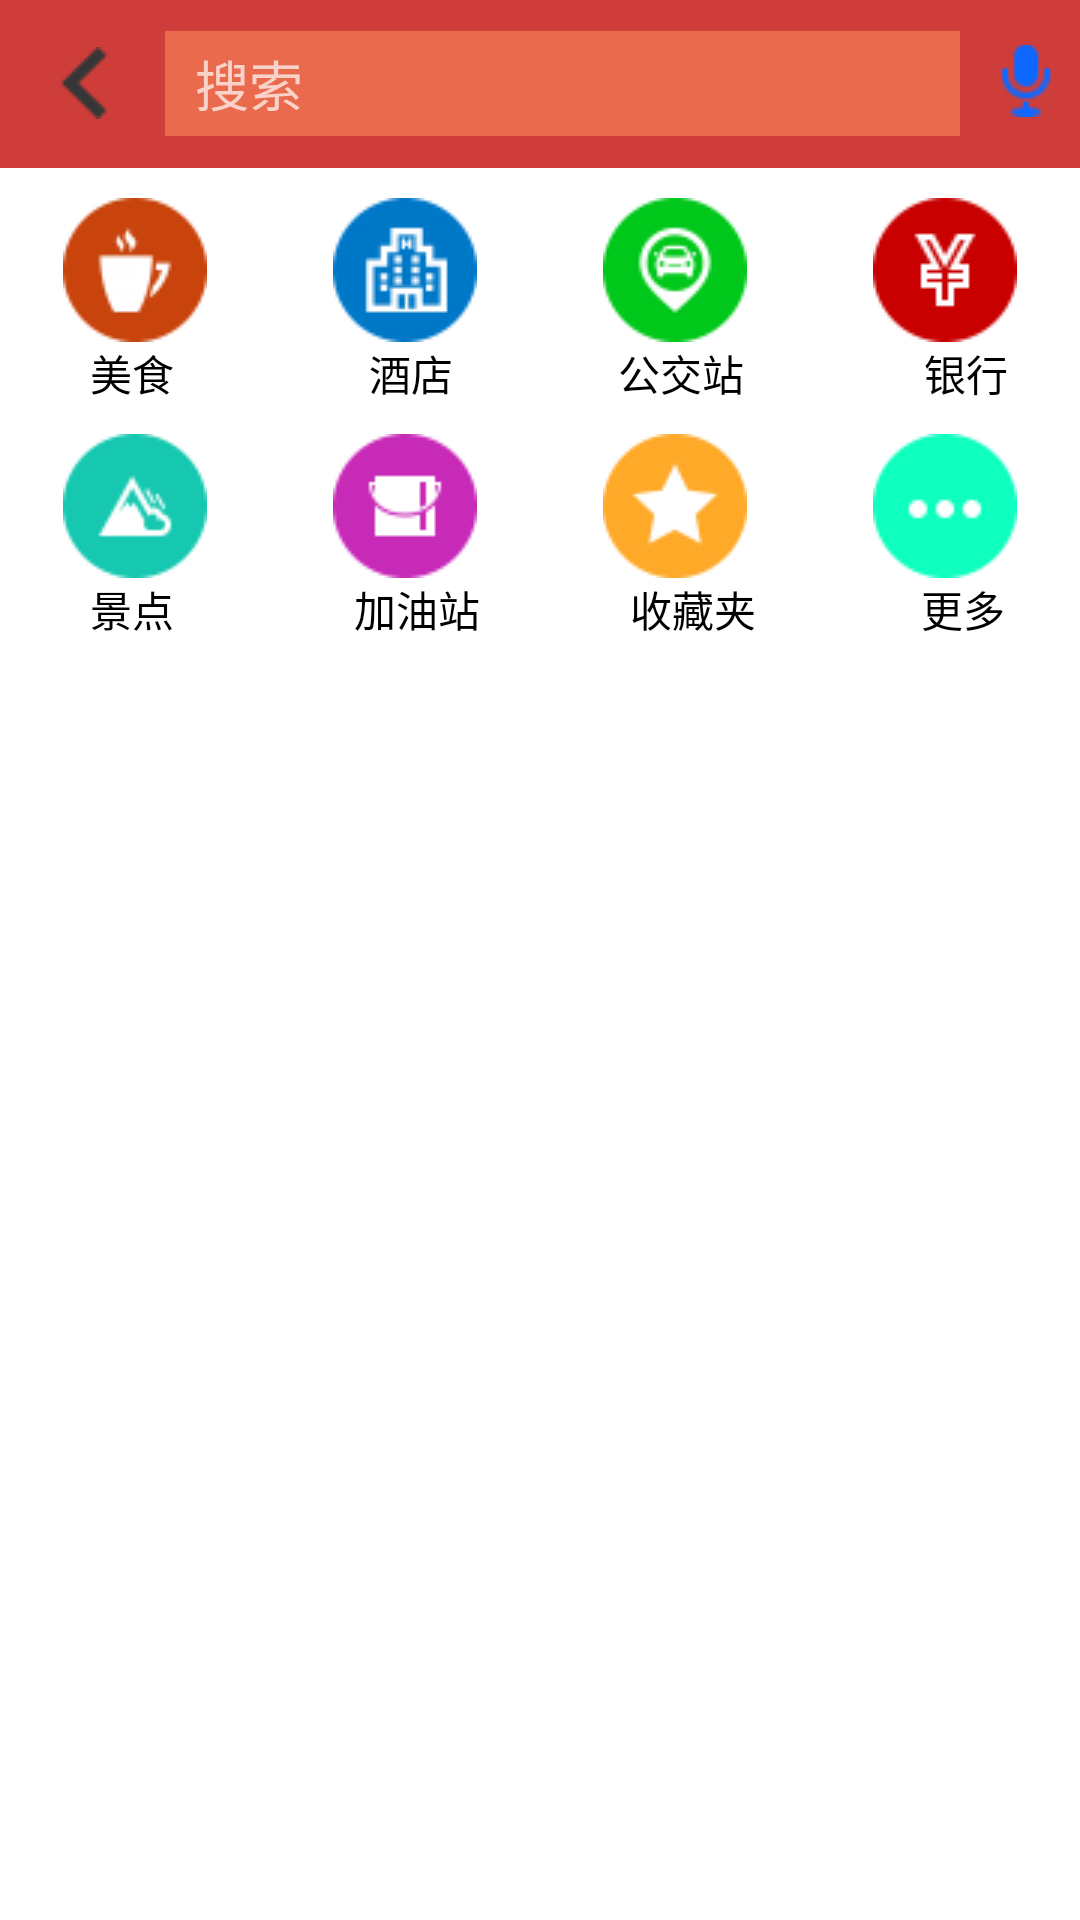

Icons on this 1080*1920 Android screen, each with the point to tap as point (x, y):
back: point (84, 83)
coffe bronw circle: point (135, 270)
microphone: point (1026, 81)
money circle: point (945, 270)
mountain circle: point (135, 506)
star circle: point (675, 506)
